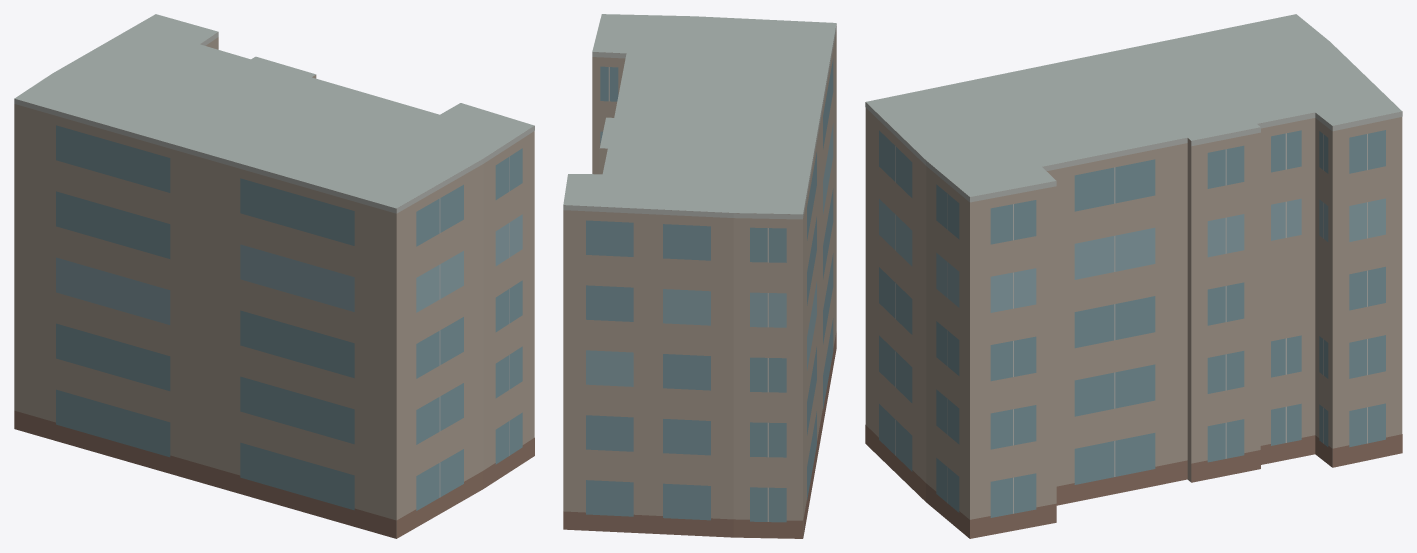
The model's file is survey-upis-32738237.glb.
3 views of the same model, side by side, from view 1: azimuth 30°, elevation 25°; view 2: azimuth 150°, elevation 25°; view 3: azimuth 270°, elevation 25° (orthographic). The views are drawn at different scales.
Parts seen in each view (by area): view 1: survey-upis-32738237.tmp; view 2: survey-upis-32738237.tmp; view 3: survey-upis-32738237.tmp.
Boxes of the visible parts, x1,y1,x2,y2 form: survey-upis-32738237.tmp: (14, 14, 534, 538); survey-upis-32738237.tmp: (563, 14, 836, 538); survey-upis-32738237.tmp: (865, 14, 1402, 538).
Bounding box in the file's own units: 17.82 × 15.5 × 22.08.
